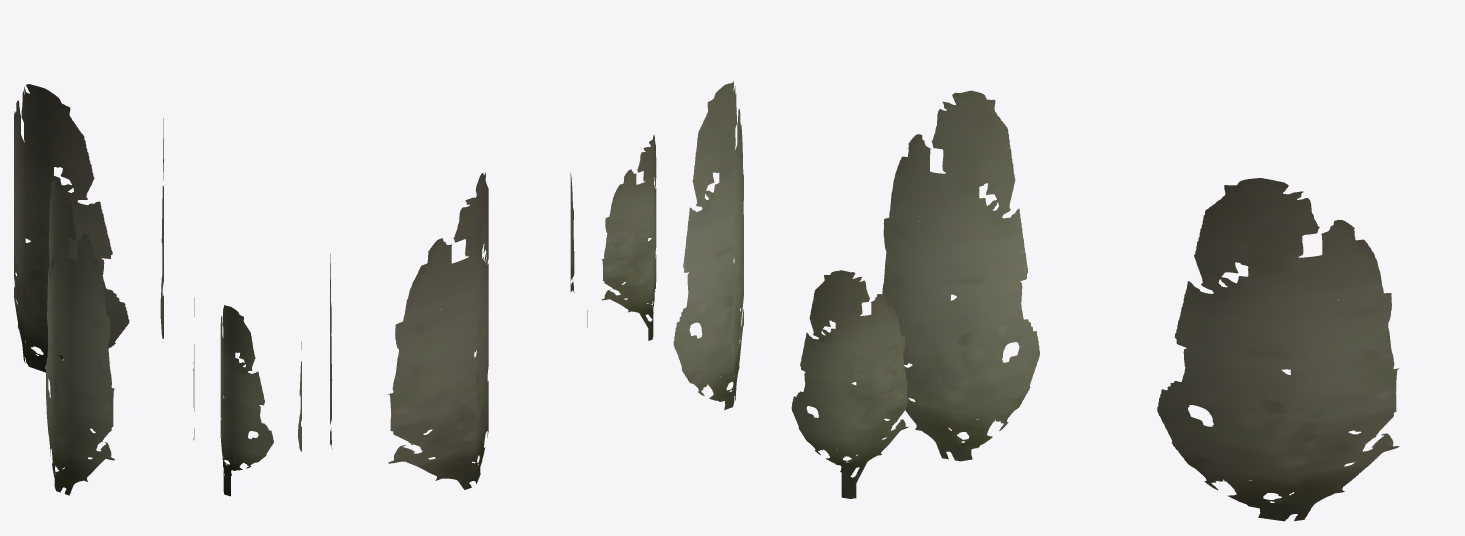
3 views of the same model, side by side, from view 1: azimuth 30°, elevation 25°; view 2: azimuth 150°, elevation 25°; view 3: azimuth 270°, elevation 25° (orthographic). The views are drawn at different scales.
Visible parts, largest first — view 1: body0_model0_lod0_mesh0; view 2: body0_model0_lod0_mesh0; view 3: body0_model0_lod0_mesh0.
Part boxes in pixels (x1=…): body0_model0_lod0_mesh0: x1=14, y1=84, x2=301, y2=496; body0_model0_lod0_mesh0: x1=330, y1=81, x2=743, y2=489; body0_model0_lod0_mesh0: x1=791, y1=90, x2=1399, y2=521.
Size of the model in its own units: 32.55 by 42.07 by 69.28.
1 material, 1 textured.
